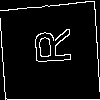R: (25, 28, 72, 66)
